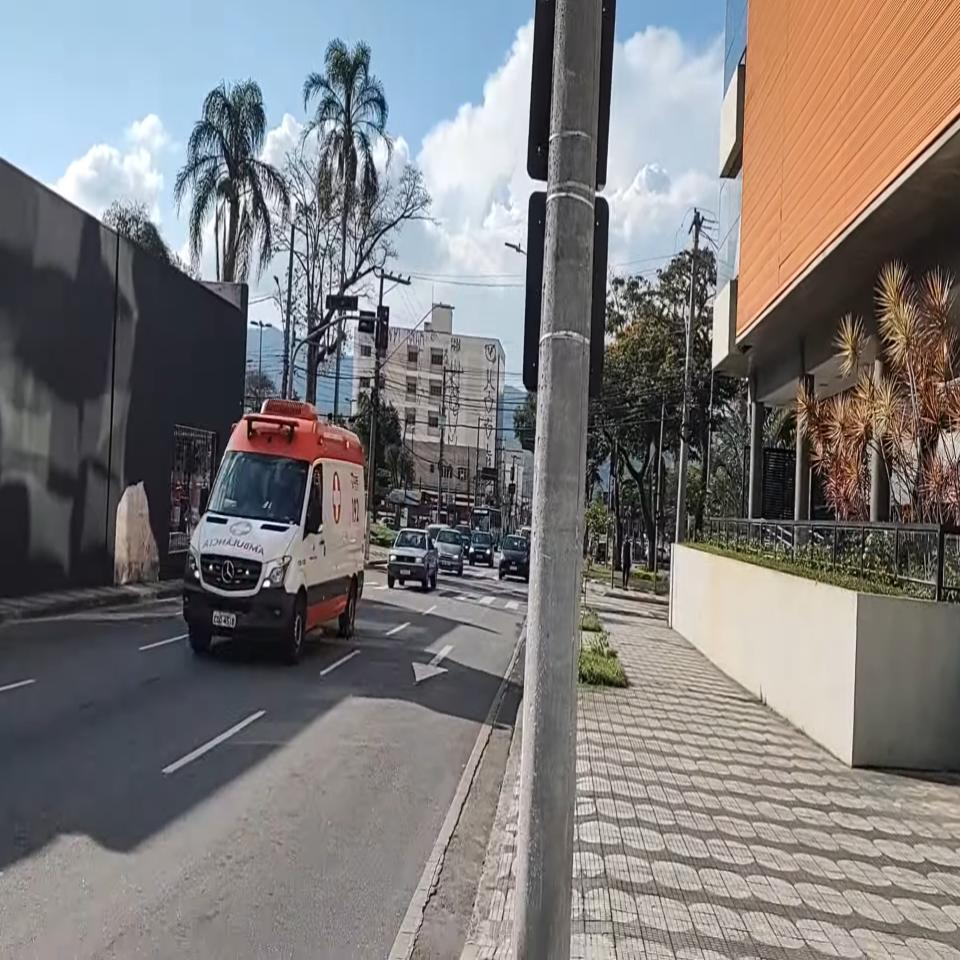bombeiro: (183, 396, 365, 661)
